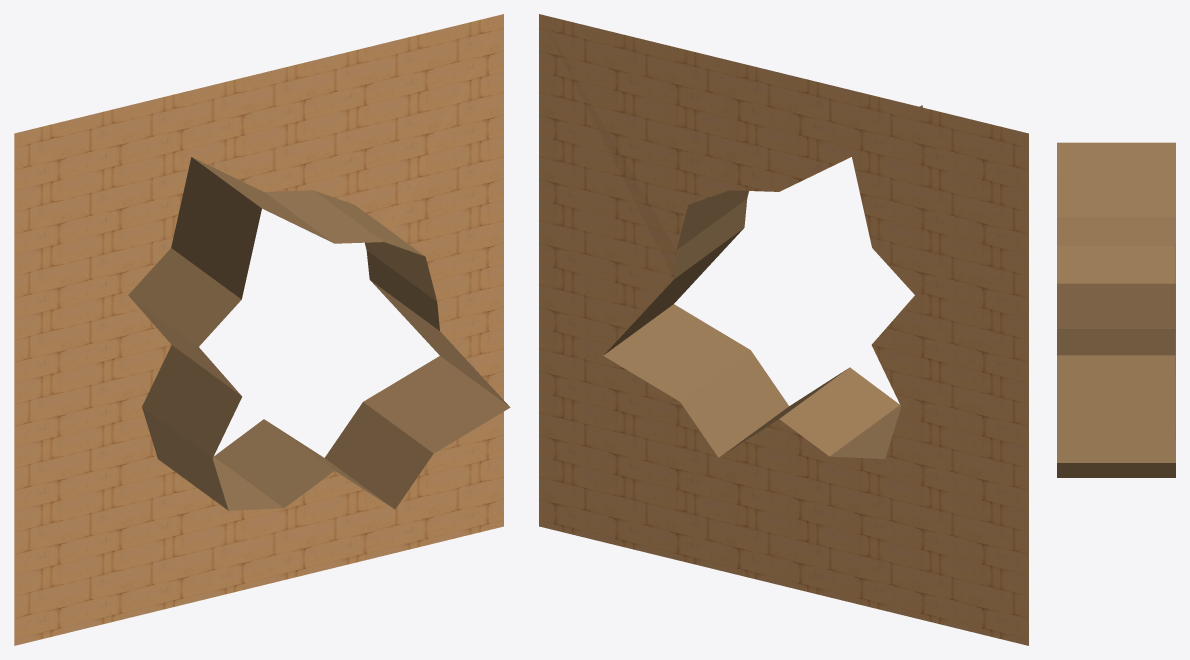
Rendered from Hole_4x4.fbx.
3 views of the same model, side by side, from view 1: azimuth 30°, elevation 25°; view 2: azimuth 150°, elevation 25°; view 3: azimuth 270°, elevation 25° (orthographic). The views are drawn at different scales.
Parts seen in each view (by area): view 1: Hole_4x4; view 2: Hole_4x4; view 3: Hole_4x4.
Boxes of the visible parts, left/top/right/bottom form: Hole_4x4: left=14, top=14, right=510, bottom=645; Hole_4x4: left=539, top=14, right=1028, bottom=645; Hole_4x4: left=1057, top=142, right=1175, bottom=477.
Size of the model in its own units: 400 by 400 by 100.
